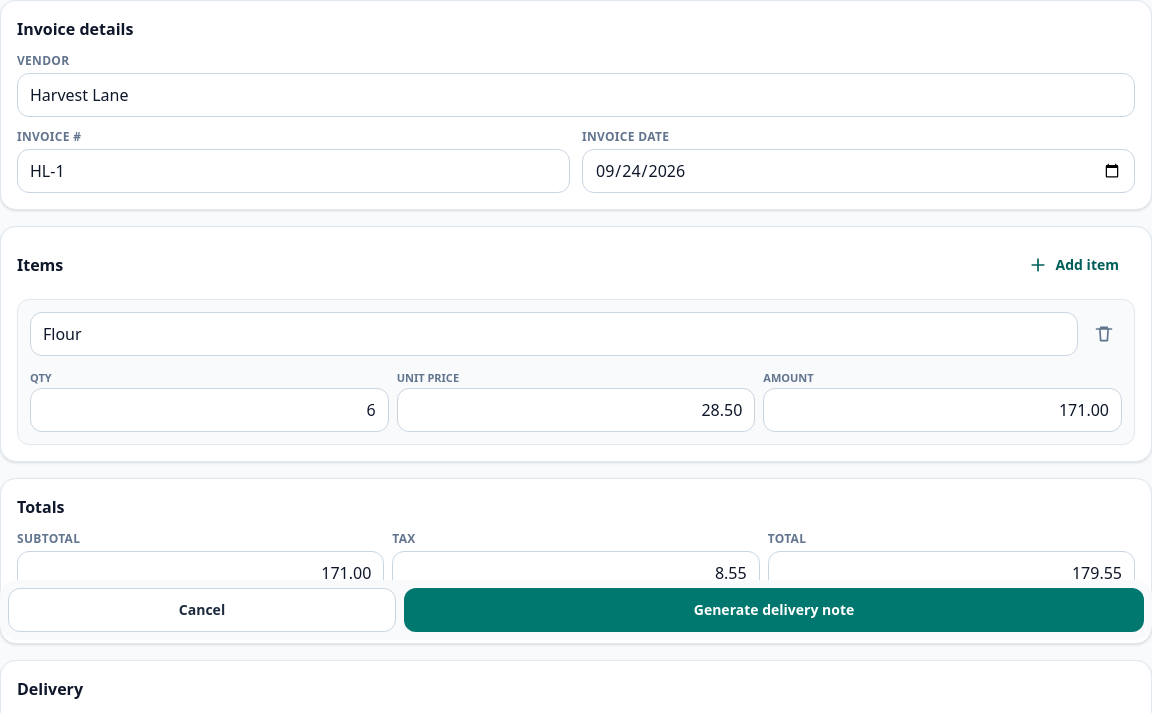
Test: ReviewForm › lets the user type decimals naturally (no snapping while typing)
Replace the text in the number field named "Item 1 unit price" with "12.5" at (576, 410), box [397, 388, 755, 432]
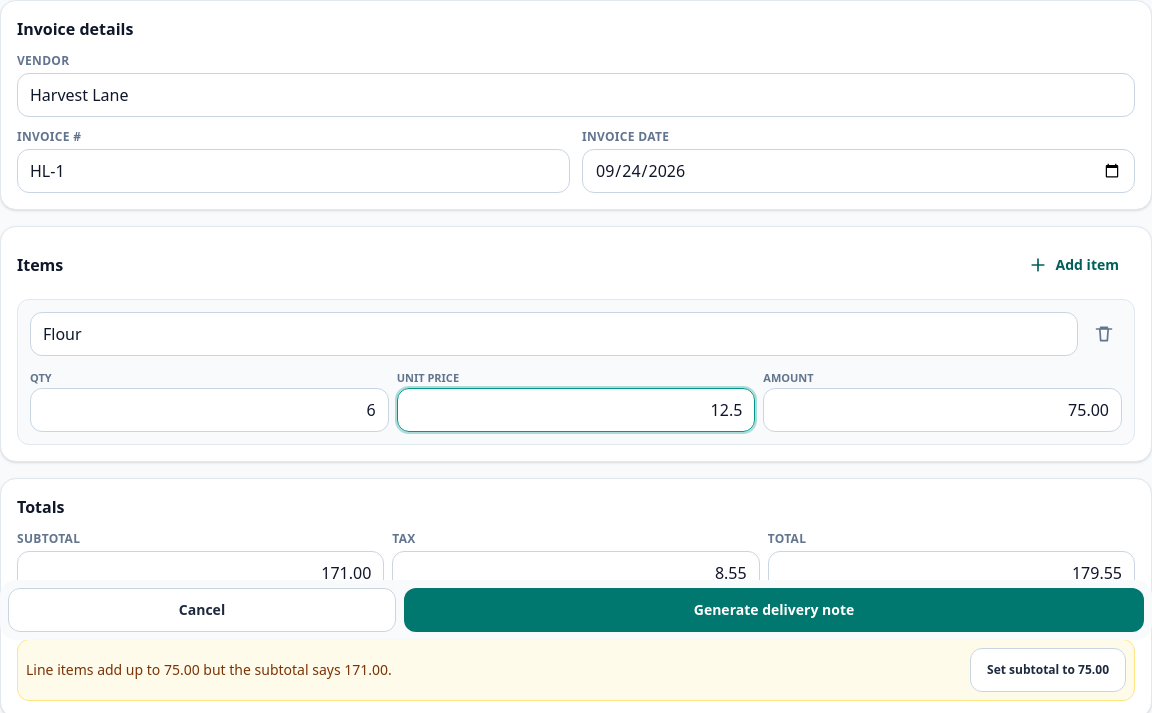
Check: the number field named "Item 1 amount" holds "75", box [763, 388, 1122, 432]
